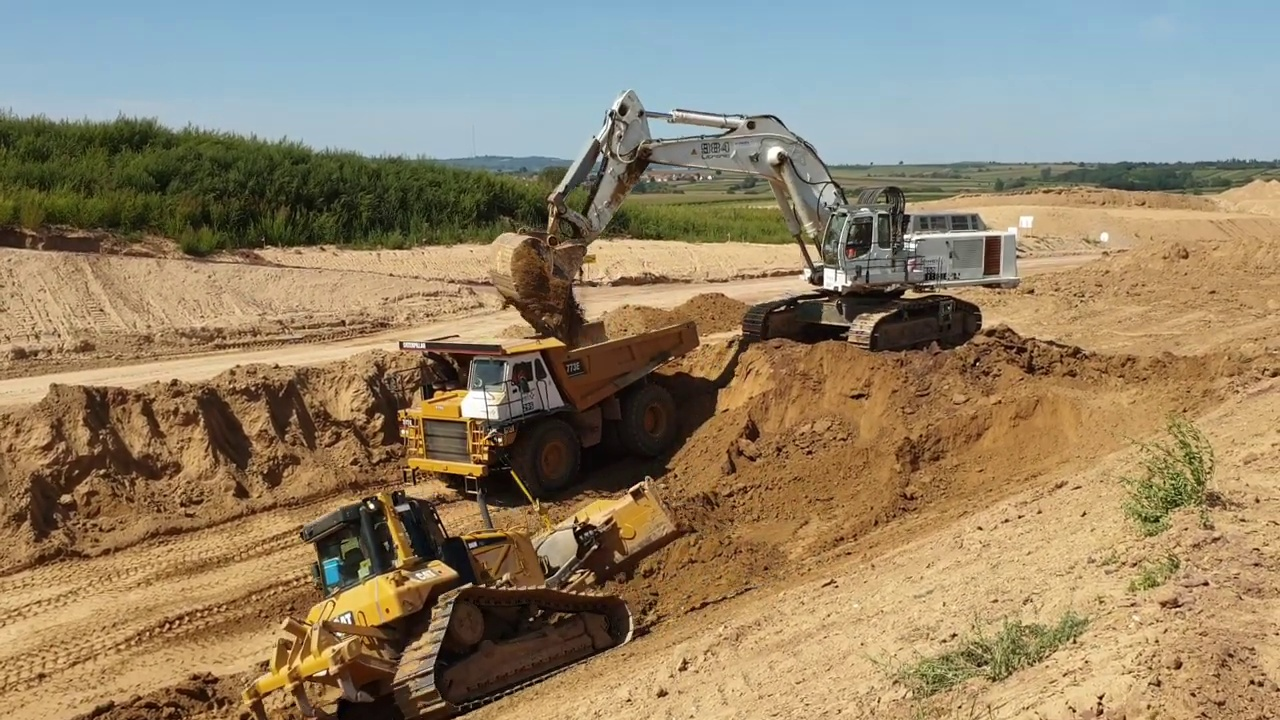bulldozer: (237, 427, 691, 720)
excavator: (484, 81, 1025, 357)
truck: (391, 316, 706, 506)
